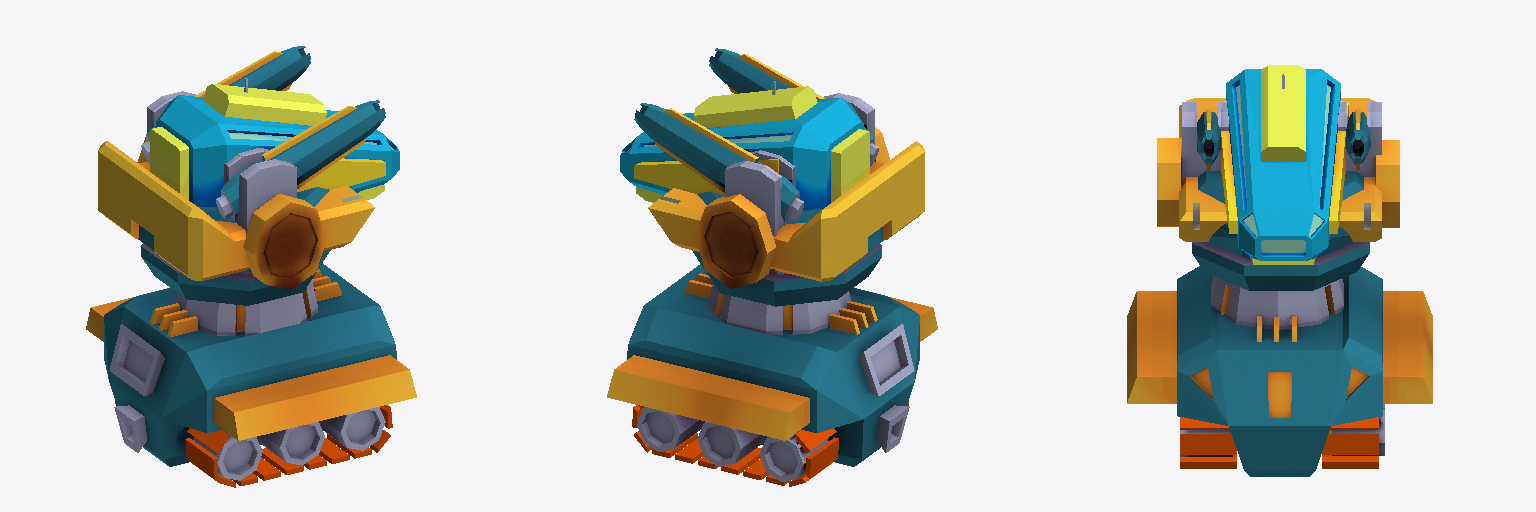
The picture shows the model from 3 angles: view 1: azimuth 30°, elevation 25°; view 2: azimuth 150°, elevation 25°; view 3: azimuth 270°, elevation 25°; orthographic projection.
Parts seen in each view (by area): view 1: Object008, Object014, Box009, Box017; view 2: Object008, Object014, Box009, Box016; view 3: Object008, Box016, Box017, Object014, Box009.
Boxes of the visible parts, x1=… form: Object008: x1=86, y1=84, x2=416, y2=466; Object014: x1=141, y1=46, x2=385, y2=219; Box009: x1=193, y1=407, x2=385, y2=480; Box017: x1=185, y1=405, x2=392, y2=487; Object008: x1=607, y1=86, x2=937, y2=466; Object014: x1=634, y1=48, x2=878, y2=222; Box009: x1=637, y1=407, x2=828, y2=481; Box016: x1=632, y1=405, x2=838, y2=486; Object008: x1=1127, y1=65, x2=1432, y2=476; Box016: x1=1322, y1=417, x2=1378, y2=468; Box017: x1=1180, y1=417, x2=1236, y2=468; Object014: x1=1197, y1=109, x2=1370, y2=169; Box009: x1=1180, y1=404, x2=1384, y2=456.
Bounding box in the file's own units: 65.77 × 85.01 × 66.14.
Materials: 4 (2 with a texture image).